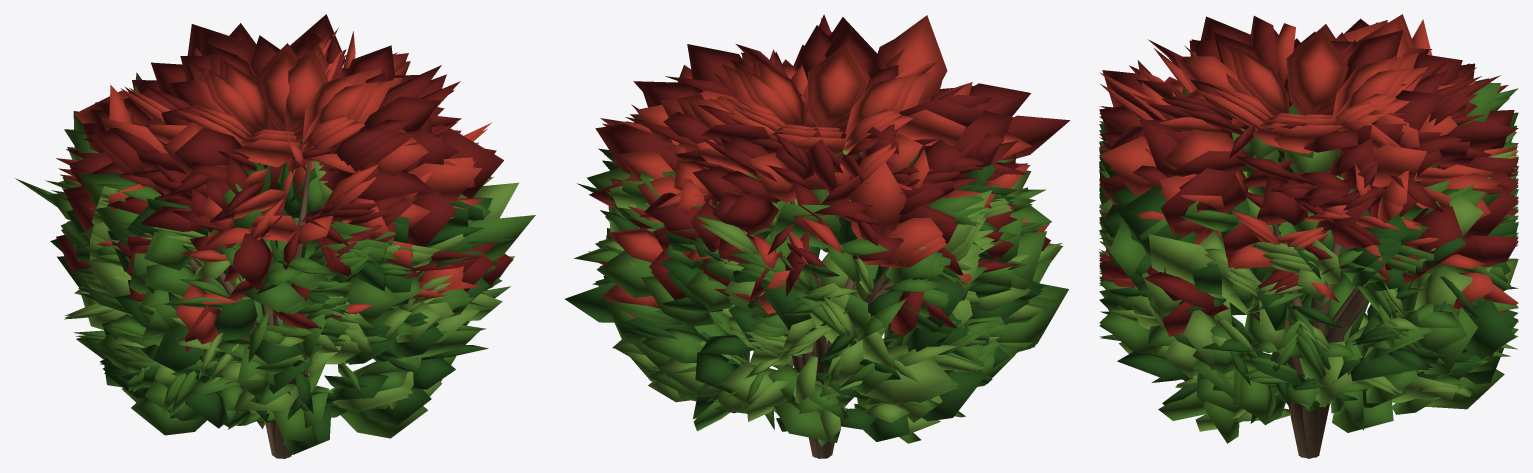
The model's file is MV_Shrub_RedTip_Small.fbx.
3 views of the same model, side by side, from view 1: azimuth 30°, elevation 25°; view 2: azimuth 150°, elevation 25°; view 3: azimuth 270°, elevation 25° (orthographic). The views are drawn at different scales.
Visible parts, largest first — view 1: LOD0_Mesh, LOD2_Mesh, LOD1_Mesh; view 2: LOD0_Mesh, LOD2_Mesh, LOD1_Mesh; view 3: LOD0_Mesh, LOD2_Mesh, LOD1_Mesh.
Part boxes in pixels (<box>): LOD0_Mesh: <box>50,27,515,458</box>; LOD2_Mesh: <box>15,14,535,454</box>; LOD1_Mesh: <box>48,23,514,458</box>; LOD0_Mesh: <box>573,25,1054,458</box>; LOD2_Mesh: <box>565,15,1069,442</box>; LOD1_Mesh: <box>577,14,1062,458</box>; LOD0_Mesh: <box>1099,16,1518,458</box>; LOD2_Mesh: <box>1099,18,1518,443</box>; LOD1_Mesh: <box>1099,14,1518,455</box>.
Bounding box in the file's own units: 0.9 × 0.9 × 0.9.
